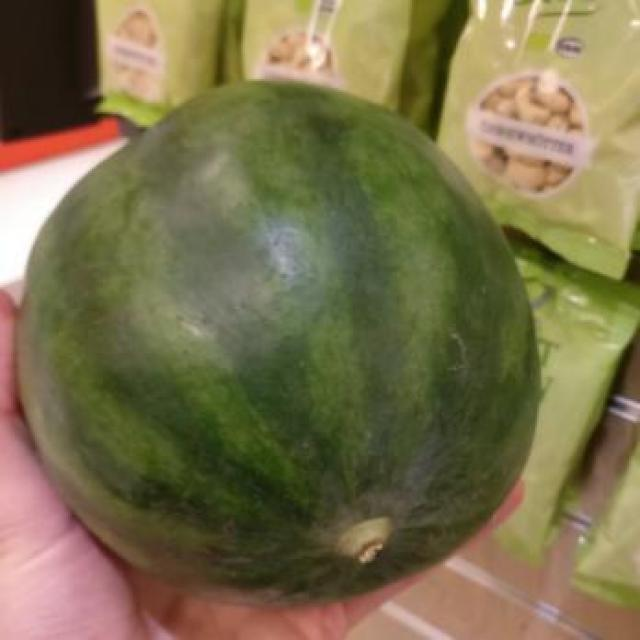Watermelon: (20, 79, 541, 611)
